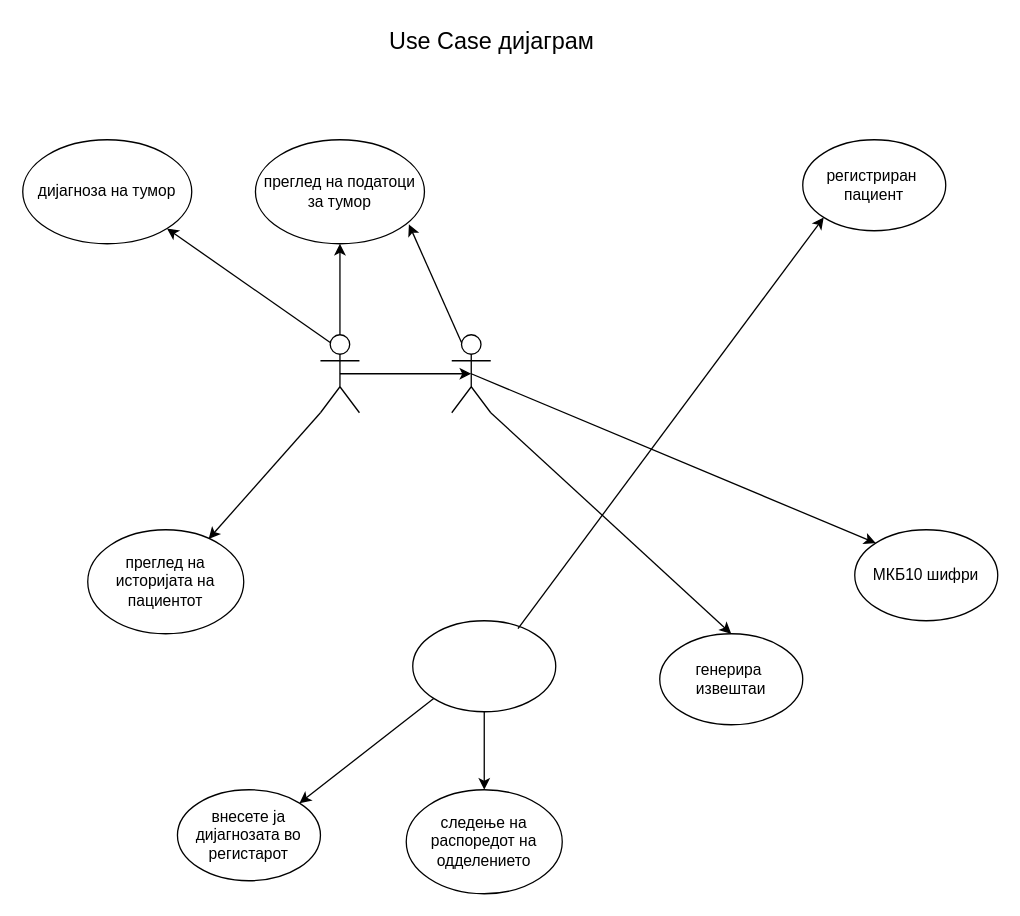
This 1020x916 diagram has some shape labels left out. The shapes that lost their labels are listed below. From the top down, each one's centre as x and y in pixels, then its label:
At point 339,373: "Доктор".
At point 470,373: "Регистар администратор".
At point 483,665: "Болница".
